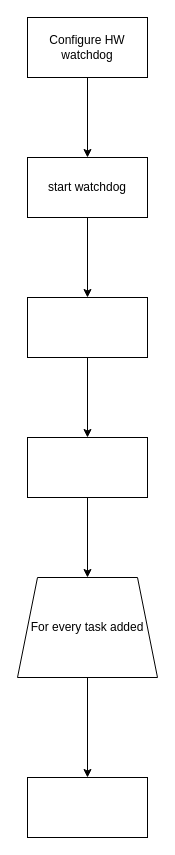
The diagram is 175 pixels wide and 855 high, and some of its shapes have lost their labels. The shapes that lost their labels are listed below. From the top down, each one's centre as x and y in pixels, then its label:
At point 87,327: "start task".
At point 87,467: "get current tick".
